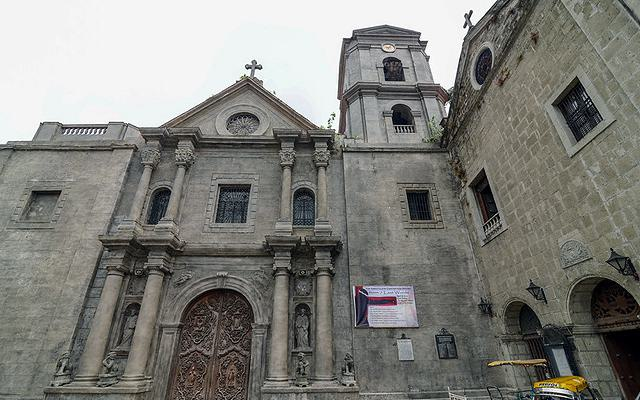san_agustin_church_intramuros_manila: (96, 3, 455, 400)
